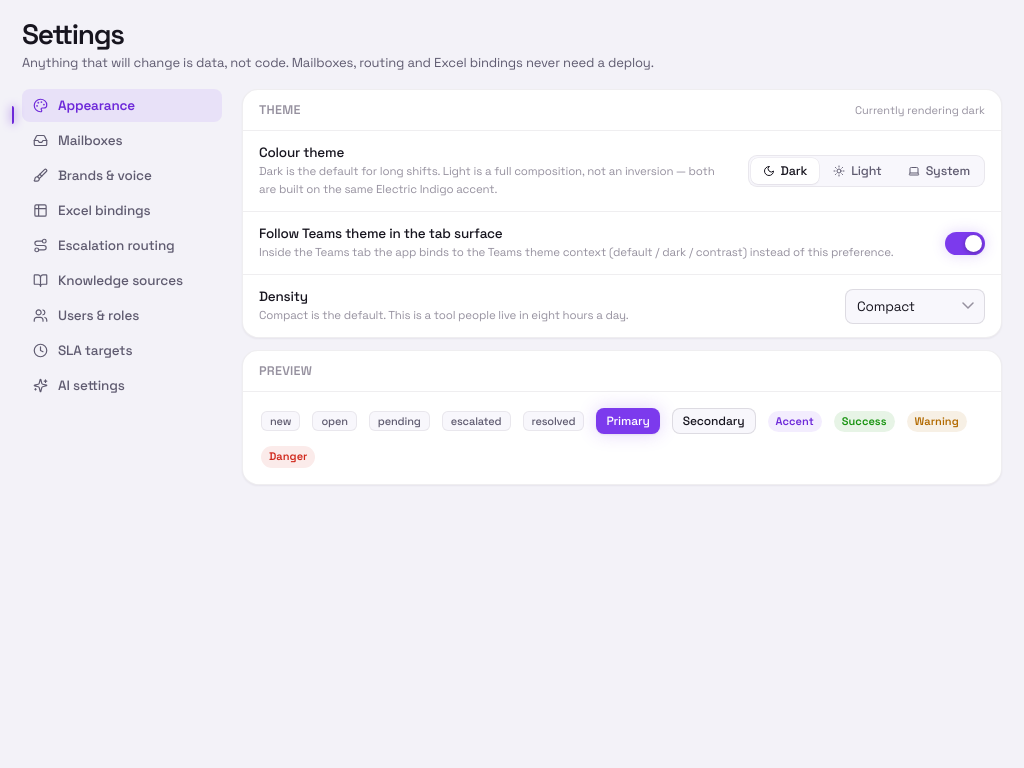
Test case: Settings screen (AD-106) › Knowledge section › displays SharePoint connection panel
What coordinates should you click on to do the following:
click the button "Knowledge sources"
I would click on:
 (122, 281)
Its box is 22,264 -> 222,297.
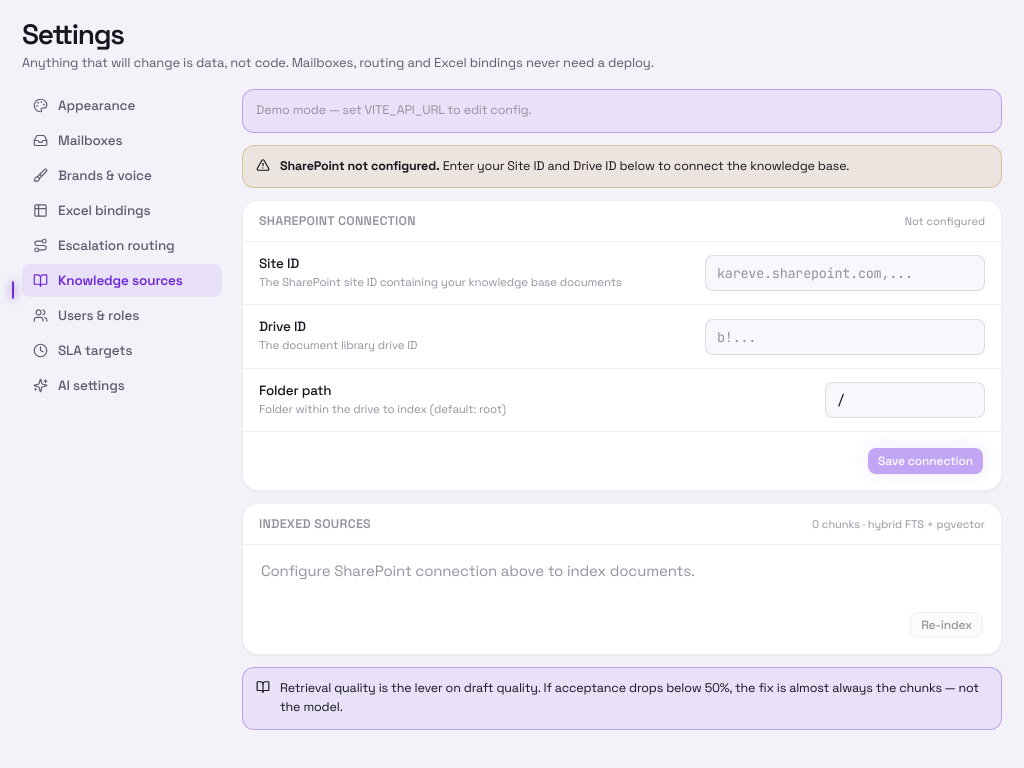
Now the text "SharePoint connection" is shown, box 259,213 -> 416,229
Now the text "Site ID" is shown, box 259,255 -> 299,272
Now the text "Drive ID" is shown, box 259,318 -> 306,335
